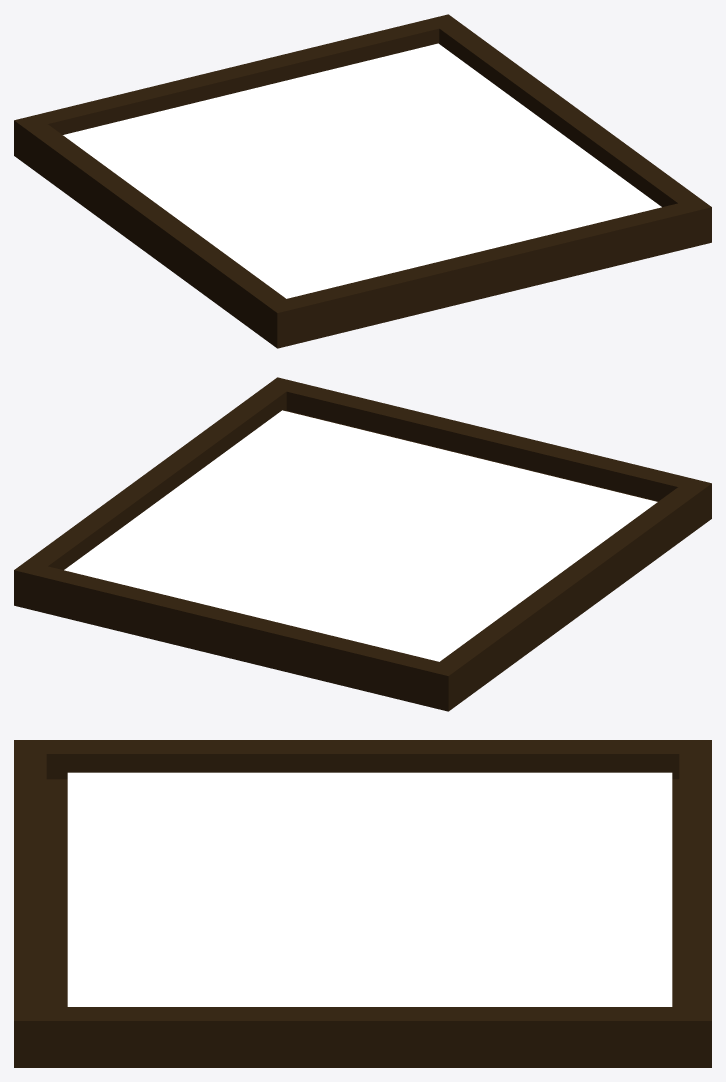
Rendered from Ventana Cudrada.fbx.
3 views of the same model, one above another, from view 1: azimuth 30°, elevation 25°; view 2: azimuth 150°, elevation 25°; view 3: azimuth 270°, elevation 25° (orthographic). The views are drawn at different scales.
Parts seen in each view (by area): view 1: Cubo.001, Cubo; view 2: Cubo.001, Cubo; view 3: Cubo.001, Cubo.
Part boxes in pixels (<box>): Cubo.001: <box>63,43,661,298</box>; Cubo: <box>14,14,711,348</box>; Cubo.001: <box>64,410,657,661</box>; Cubo: <box>14,377,711,711</box>; Cubo.001: <box>67,772,672,1006</box>; Cubo: <box>14,740,711,1067</box>.
Size of the model in its own units: 292 by 22.8 by 307.
